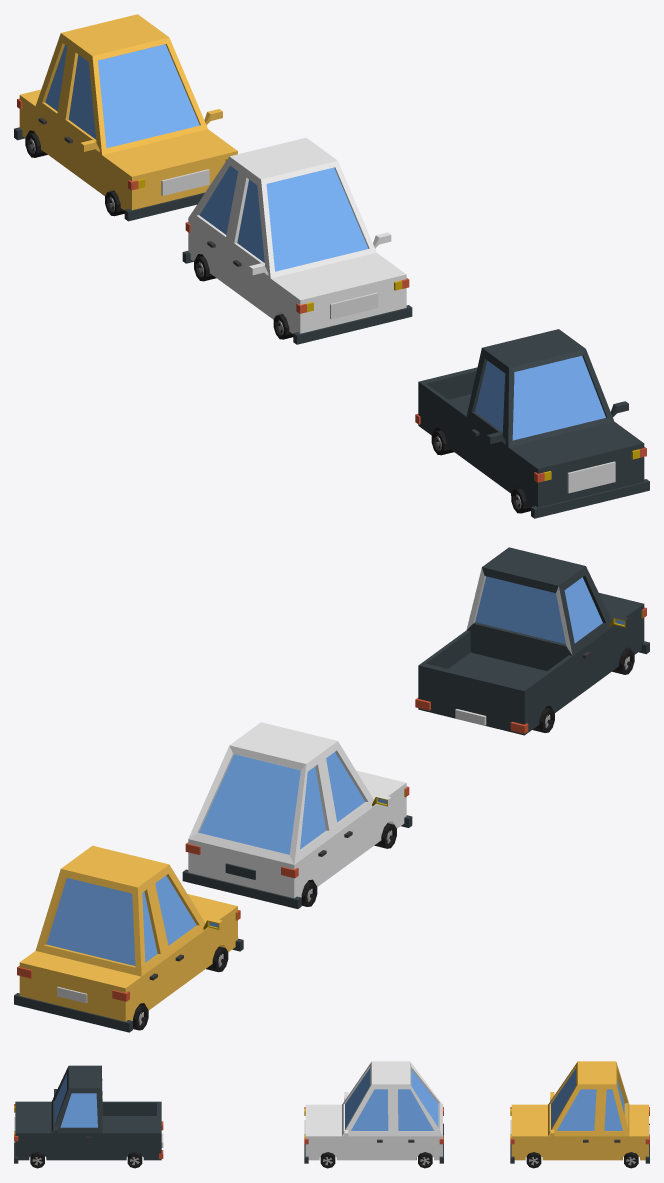
The model's file is cars.fbx.
3 views of the same model, one above another, from view 1: azimuth 30°, elevation 25°; view 2: azimuth 150°, elevation 25°; view 3: azimuth 270°, elevation 25° (orthographic). The views are drawn at different scales.
Parts seen in each view (by area): view 1: Car.001, Car, Car.002; view 2: Car.001, Car.002, Car; view 3: Car.001, Car, Car.002.
Part boxes in pixels (<box>): Car.001: <box>182,137,412,344</box>; Car: <box>14,14,237,221</box>; Car.002: <box>415,329,649,518</box>; Car.001: <box>182,722,412,908</box>; Car.002: <box>415,547,649,735</box>; Car: <box>14,845,243,1032</box>; Car.001: <box>304,1061,443,1168</box>; Car: <box>510,1061,649,1168</box>; Car.002: <box>14,1065,163,1168</box>.
Size of the model in its own units: 618 by 549 by 4011.
